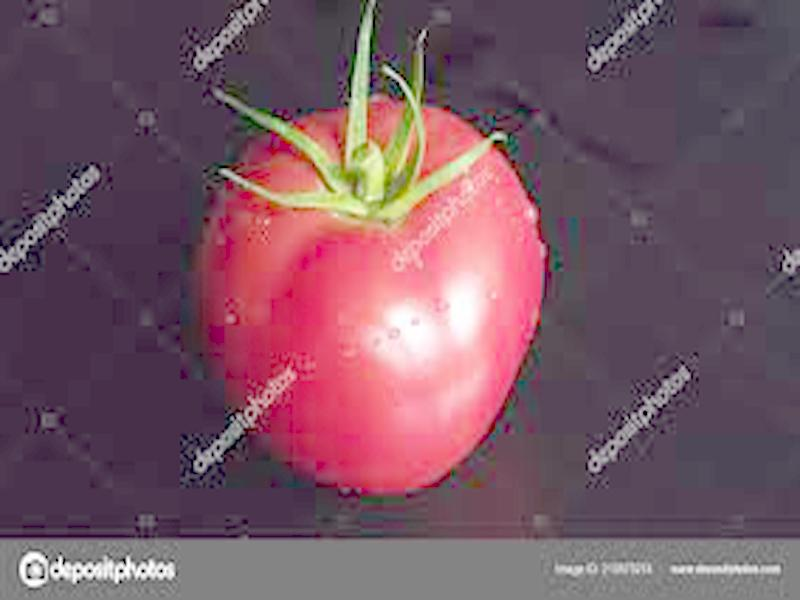Tomato: (200, 98, 544, 492)
